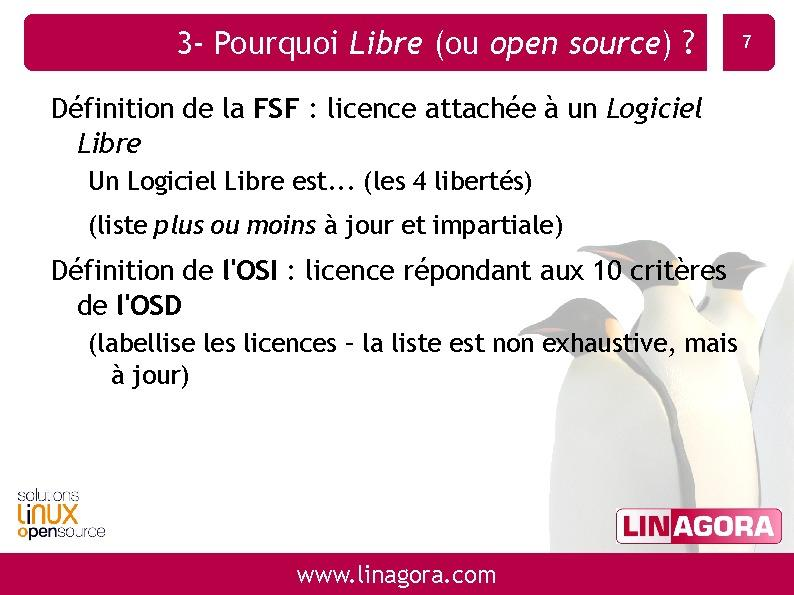paragraph: (17, 78, 718, 435)
title: (169, 19, 701, 68)
